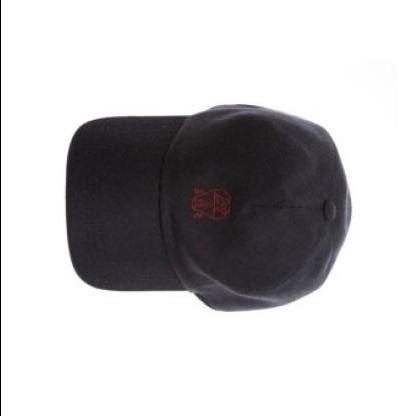cap: (59, 96, 361, 326)
